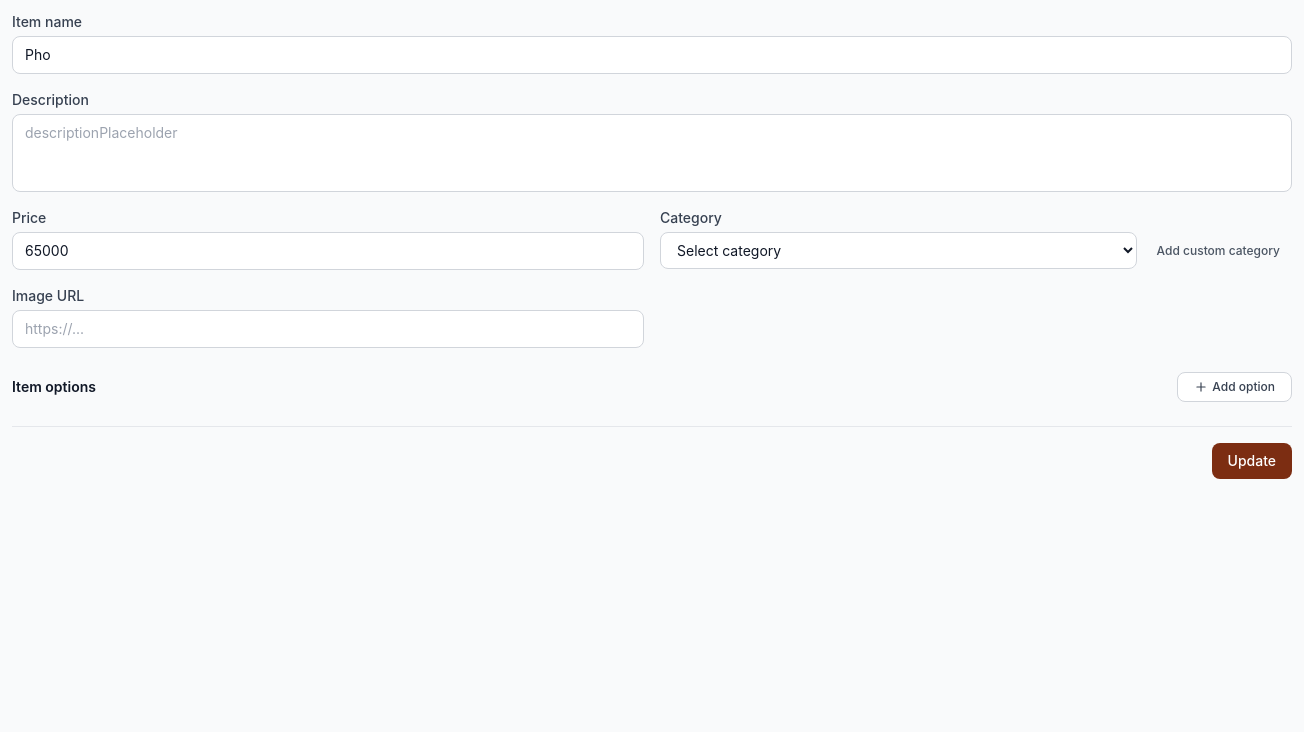
Test: MenuItemForm › validates the active custom category instead of submitting a stale selection
Click the button "Add custom category" at (1218, 250), box [1145,232,1292,269]
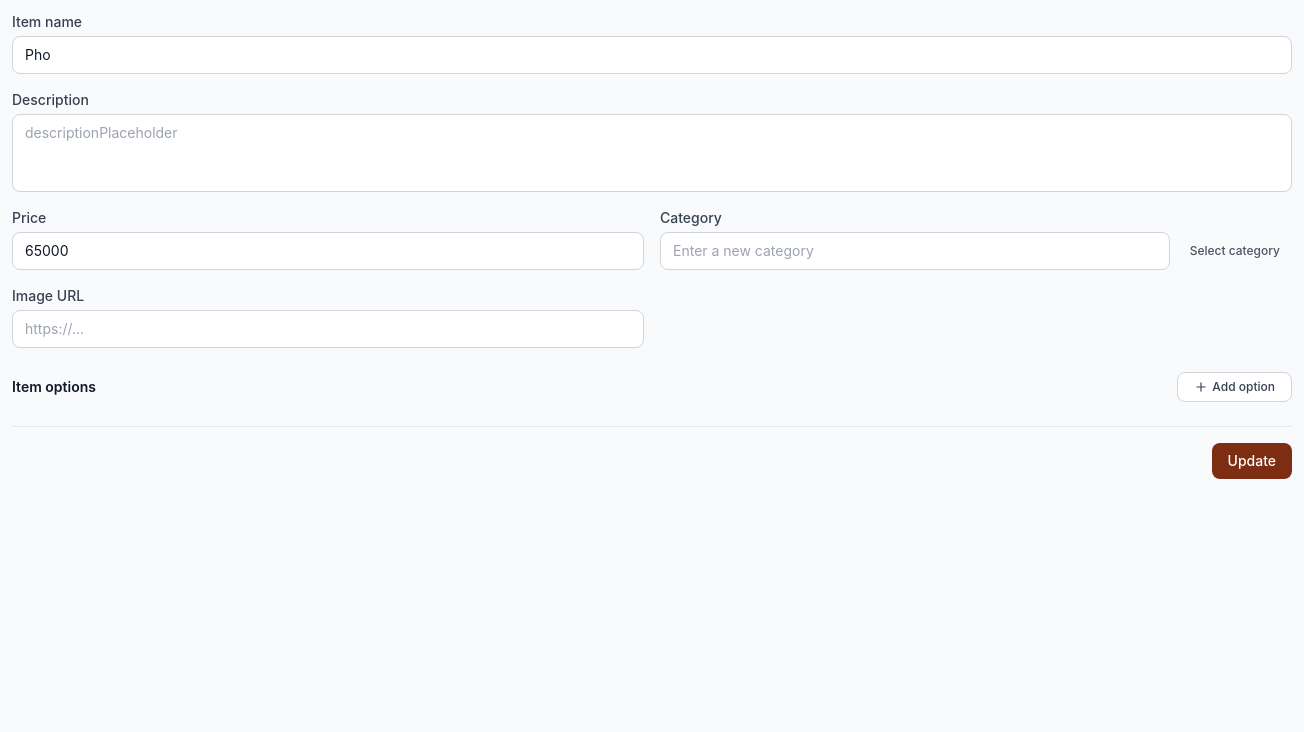
Submit the form named "Menu item details form"
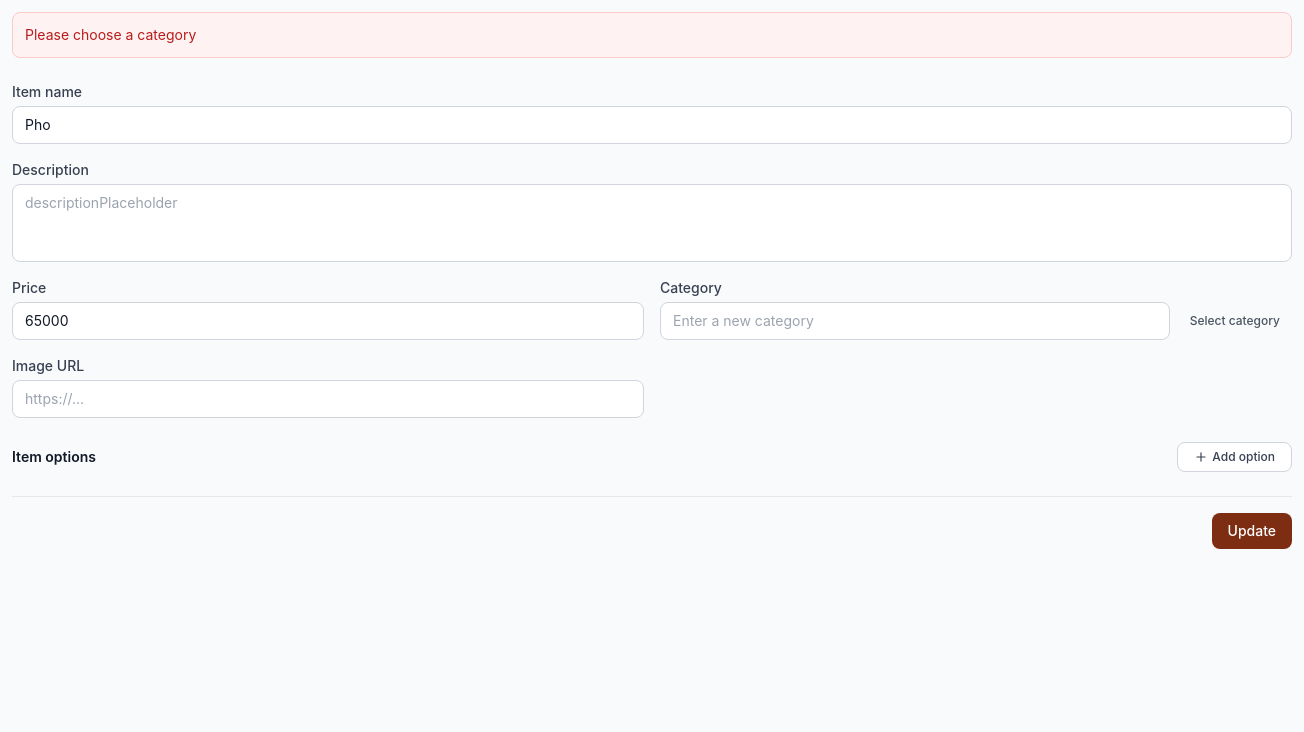
expect the message reads "Please choose a category": met, box [25,26,196,43]
